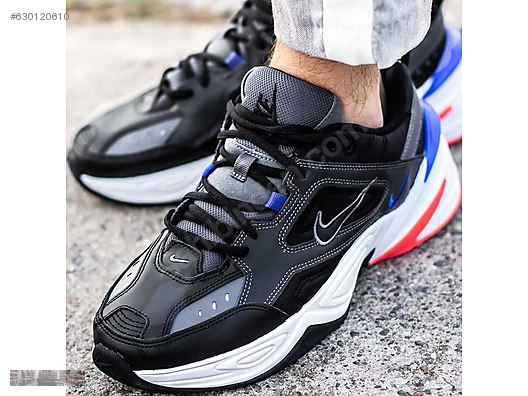nike: (311, 175, 381, 248)
